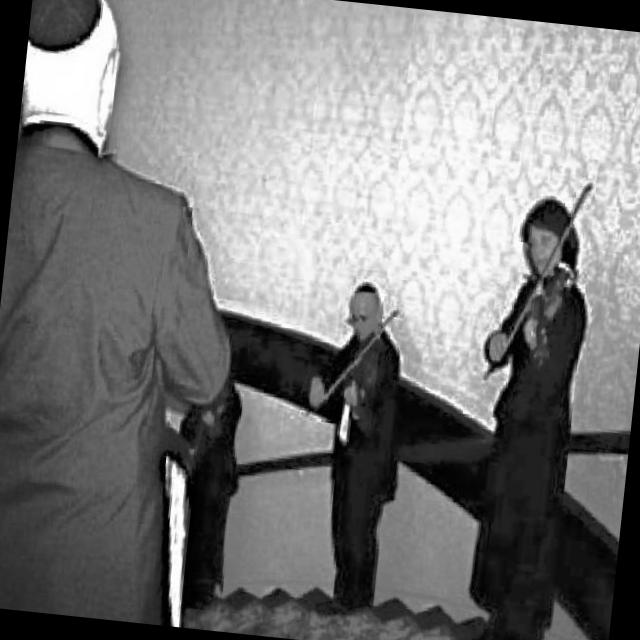Person: (0, 0, 269, 629), (452, 190, 606, 640), (290, 271, 422, 618)
